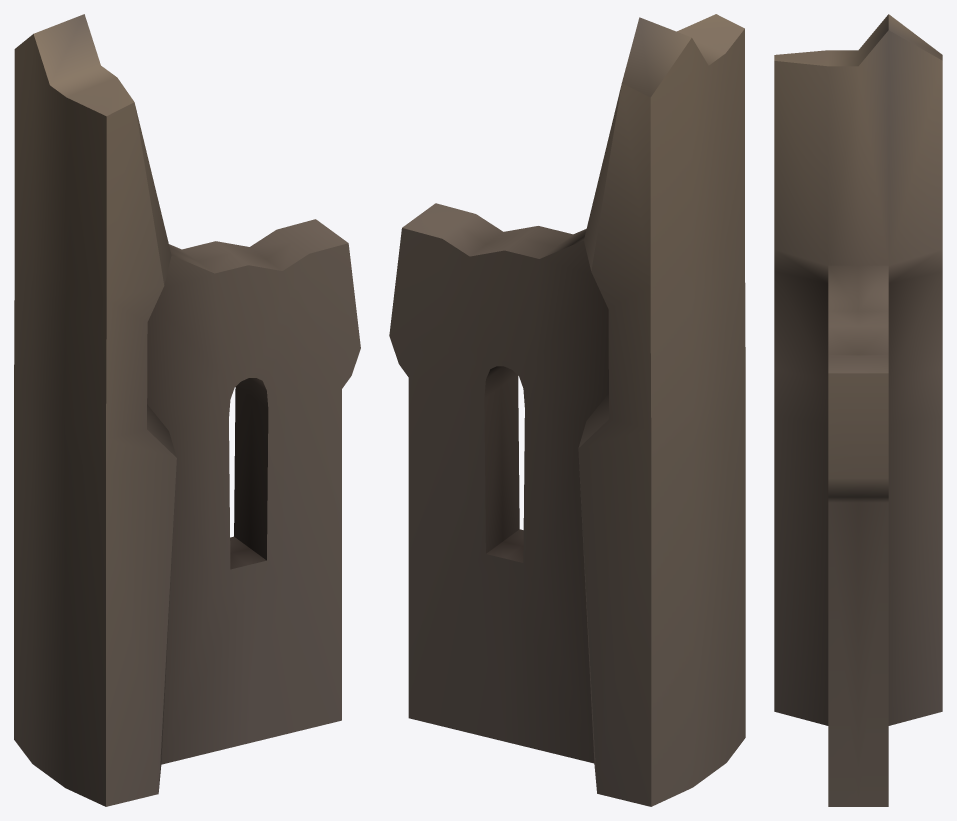
Rendered from buildings-ruins-cathedralruins_v5.glb.
3 renders of one model, left to right at view 1: azimuth 30°, elevation 25°; view 2: azimuth 150°, elevation 25°; view 3: azimuth 270°, elevation 25°, orthographic. The views are drawn at different scales.
Parts seen in each view (by area): view 1: CathedralRuins_v5; view 2: CathedralRuins_v5; view 3: CathedralRuins_v5.
Part boxes in pixels (x1=…): CathedralRuins_v5: x1=14, y1=14, x2=360, y2=806; CathedralRuins_v5: x1=389, y1=14, x2=745, y2=806; CathedralRuins_v5: x1=774, y1=14, x2=942, y2=806.
Bounding box in the file's own units: 5.87 × 13.99 × 3.16.
